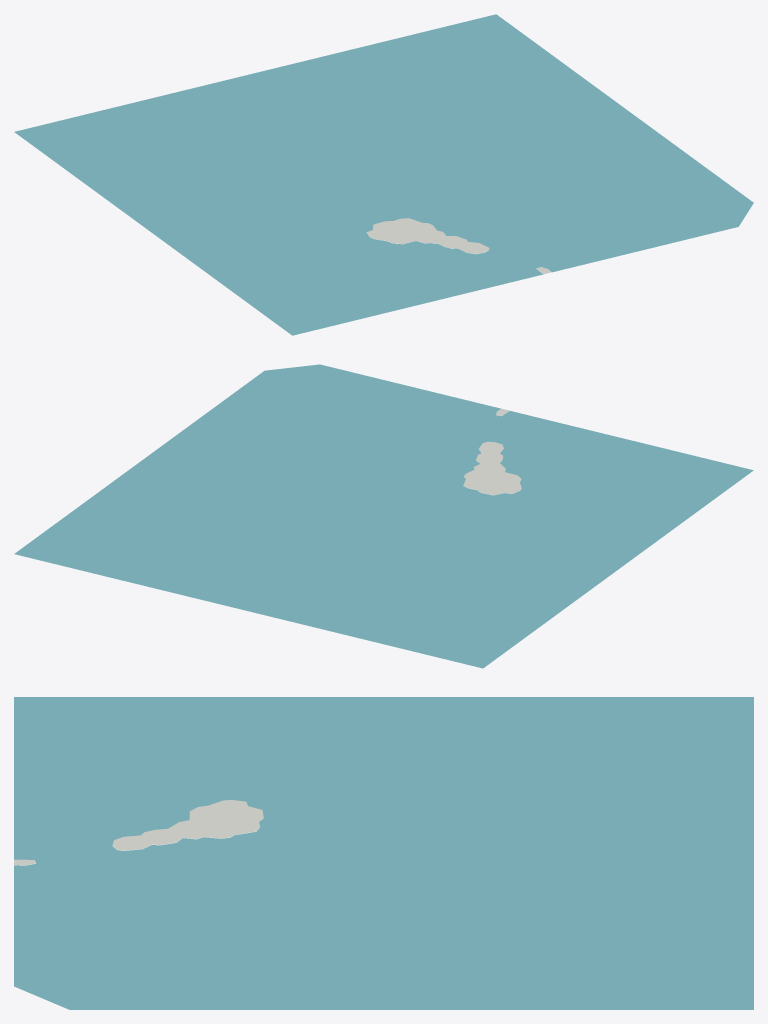
3 renders of one model, top to bottom at view 1: azimuth 30°, elevation 25°; view 2: azimuth 150°, elevation 25°; view 3: azimuth 270°, elevation 25°, orthographic. The views are drawn at different scales.
Visible parts, largest first — view 1: city; view 2: city; view 3: city.
Part boxes in pixels (x1,y1,x2,y2): city: (14,14,753,335); city: (14,364,753,668); city: (14,697,753,1009).
Size of the model in its own units: 500 by 0.18 by 500.
